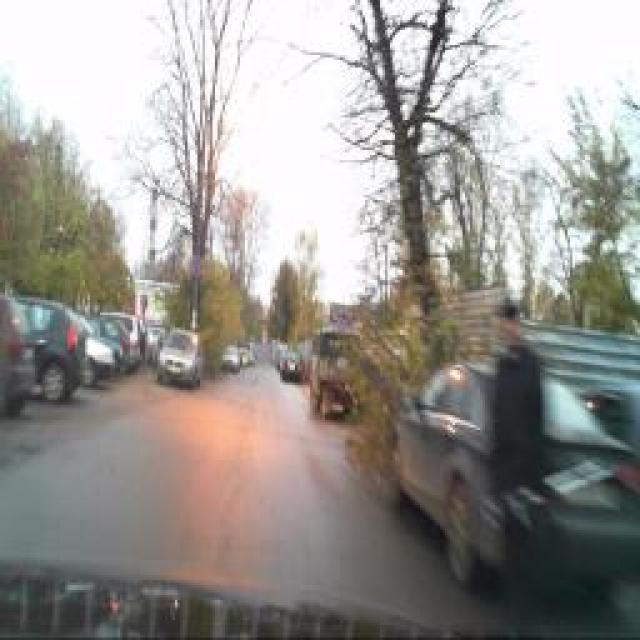sign: (190, 255, 202, 277), (338, 311, 350, 331)
